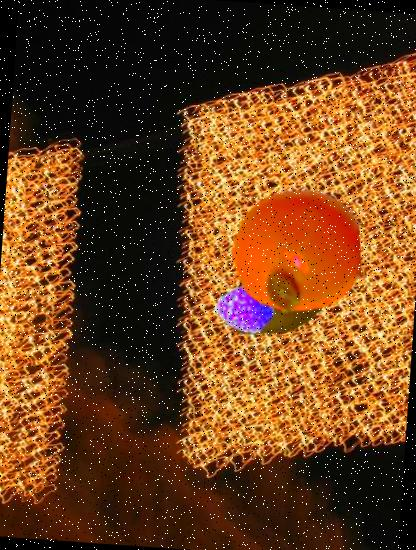Papaya: (220, 234, 335, 348)
Physalis: (226, 181, 364, 320)
Raspberry: (218, 278, 276, 336)
